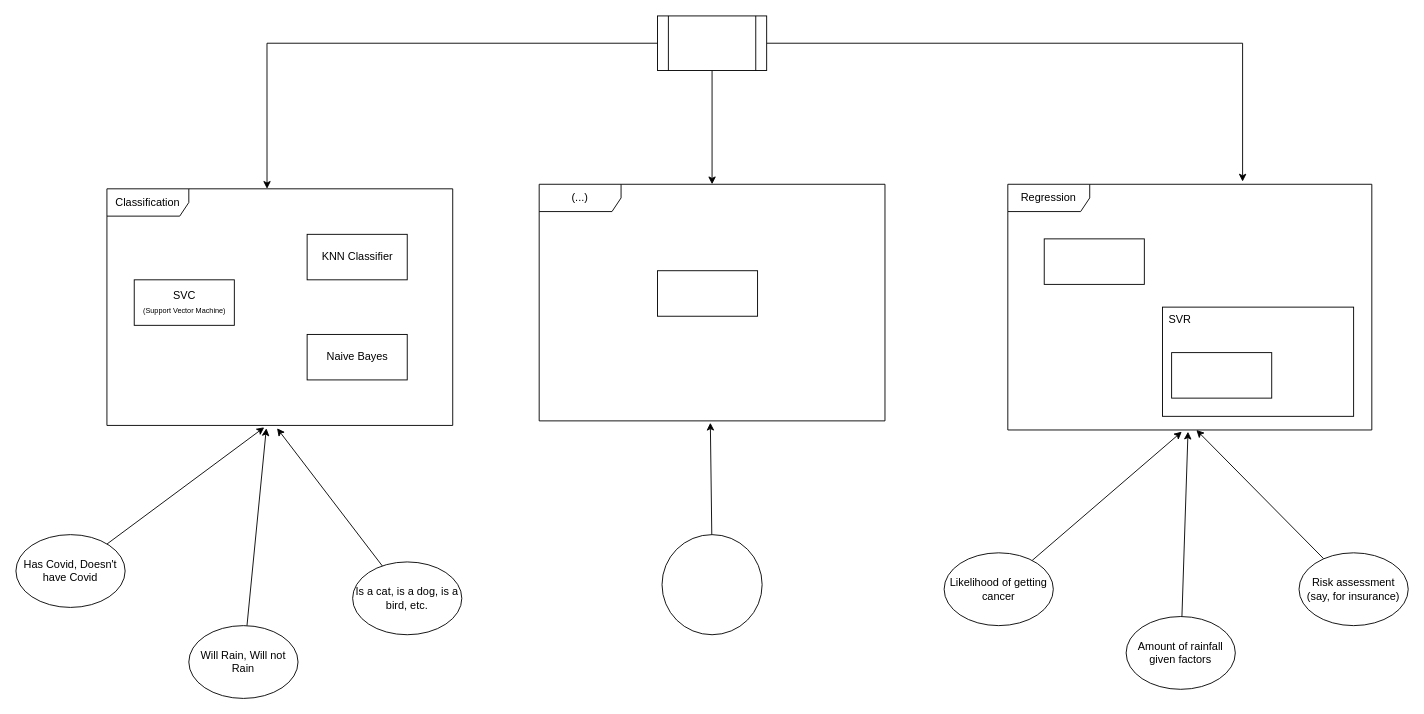
Image size: 1424x714. Some labels were removed from this diagram. Here are the shapes that lost their labels. From the top down, the centre of each, then its label:
At (712,43): "Machine Learning".
At (1093,261): "Linear Regression".
At (707,293): "Logistic Regression".
At (1221,375): "RidgeRegression".
At (711,584): "Boolean-like decisions".
